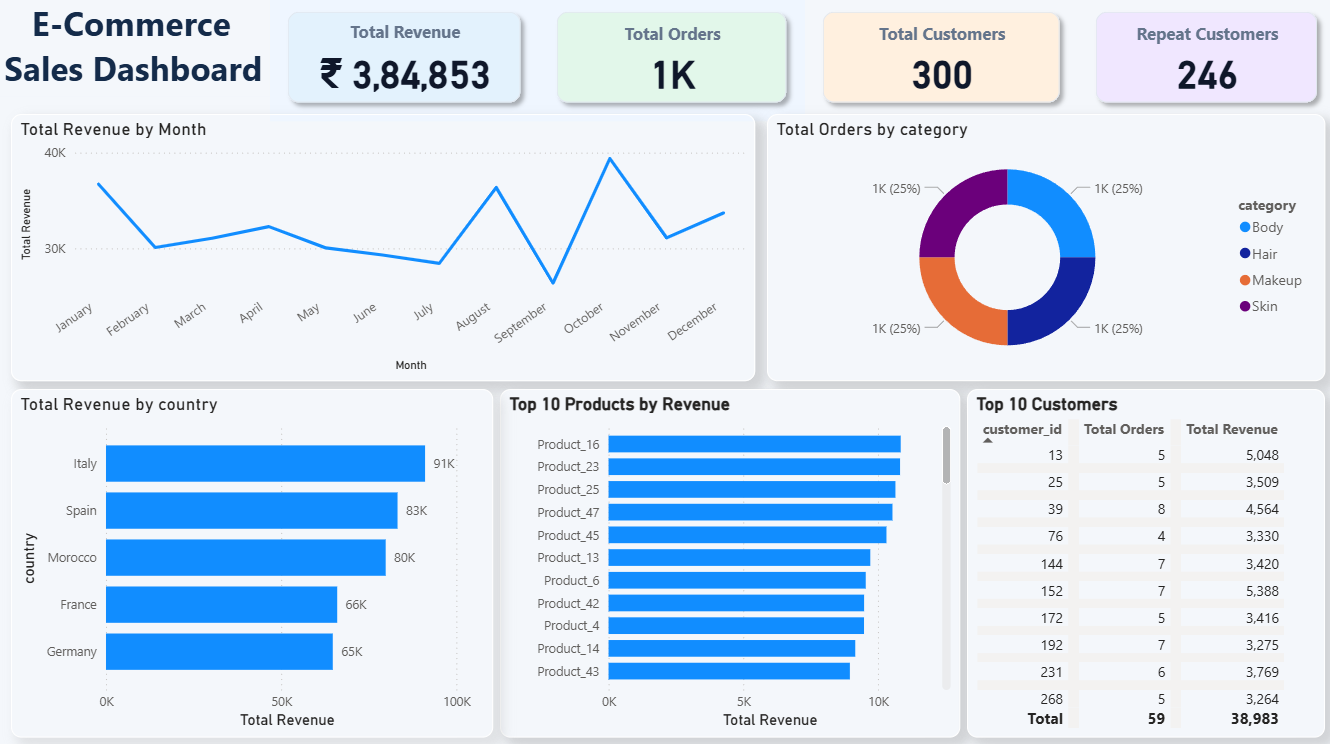

The dashboard page shown, as its layout file describes it:
{"tool":"powerbi","page":{"name":"Page 1","canvas":[1280,720],"ordinal":0},"visuals":[{"type":"cardVisual","fields":{"Data":["public customers.Total Revenue"]},"box":[259.6,0,257.7,121.7],"z":0},{"type":"cardVisual","fields":{"Data":["public customers.Total Orders"]},"box":[517.4,0,254.9,121.7],"z":1000},{"type":"cardVisual","fields":{"Data":["public customers.Total Customers"]},"box":[772.2,0,261.6,121.7],"z":2000},{"type":"cardVisual","fields":{"Data":["public customers.Repeat Customers"]},"box":[1033.8,0,246.2,121.7],"z":3000},{"type":"lineChart","fields":{"Y":["public customers.Total Revenue"],"Category":["public orders.order_date.Variation.Date Hierarchy.Month"]},"box":[11.7,114.7,713.4,255.6],"z":4000},{"type":"donutChart","fields":{"Category":["public products.category"],"Y":["public customers.Total Orders"]},"box":[735.7,114.7,534.5,255.6],"z":5000},{"type":"barChart","title":"Top 10 Products by Revenue","fields":{"Category":["public products.product_name"],"Y":["public customers.Total Revenue"]},"box":[480,378.4,440.7,334.4],"z":6000},{"type":"tableEx","title":"Top 10 Customers","fields":{"Values":["public customers.customer_id","public customers.Total Orders","public customers.Total Revenue"]},"box":[927.4,378.4,343,334.4],"z":7000},{"type":"clusteredBarChart","fields":{"Category":["public customers.country"],"Y":["public customers.Total Revenue"]},"box":[11.7,378.1,461.7,334.3],"z":8000},{"type":"textbox","box":[0,0,259.5,98.2],"z":9000}]}

Visuals, with their boxes in screenshot pixels (x1, y1, x2, y2), scaled from the page's 1280x720 canvas onto the 1330x744 screenshot:
cardVisual - public customers.Total Revenue: bbox(270, 0, 538, 126)
cardVisual - public customers.Total Orders: bbox(538, 0, 802, 126)
cardVisual - public customers.Total Customers: bbox(802, 0, 1074, 126)
cardVisual - public customers.Repeat Customers: bbox(1074, 0, 1329, 126)
lineChart - public customers.Total Revenue x public orders.order_date.Variation.Date Hierarchy.Month: bbox(12, 119, 753, 383)
donutChart - public products.category x public customers.Total Orders: bbox(764, 119, 1320, 383)
"Top 10 Products by Revenue" barChart: bbox(499, 391, 957, 737)
"Top 10 Customers" tableEx: bbox(964, 391, 1320, 737)
clusteredBarChart - public customers.country x public customers.Total Revenue: bbox(12, 391, 492, 736)
textbox: bbox(0, 0, 270, 101)
